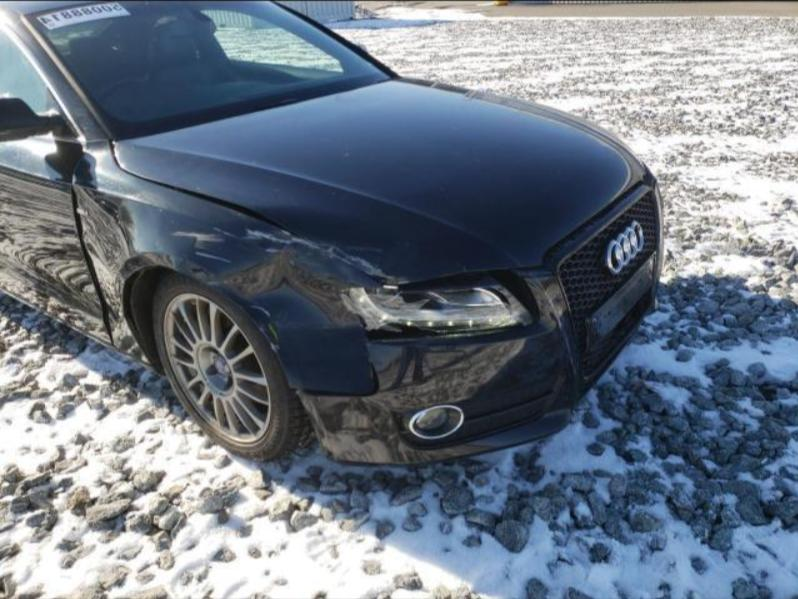Broken part: (386, 181, 643, 323), (128, 168, 315, 243), (336, 282, 535, 338), (68, 179, 117, 347), (290, 336, 382, 400), (118, 264, 158, 341)
Dent: (159, 197, 516, 348), (72, 168, 154, 371)
Missing part: (589, 252, 655, 351), (642, 162, 656, 188)
Scratch: (166, 224, 408, 283), (258, 326, 279, 355), (251, 304, 272, 317)
